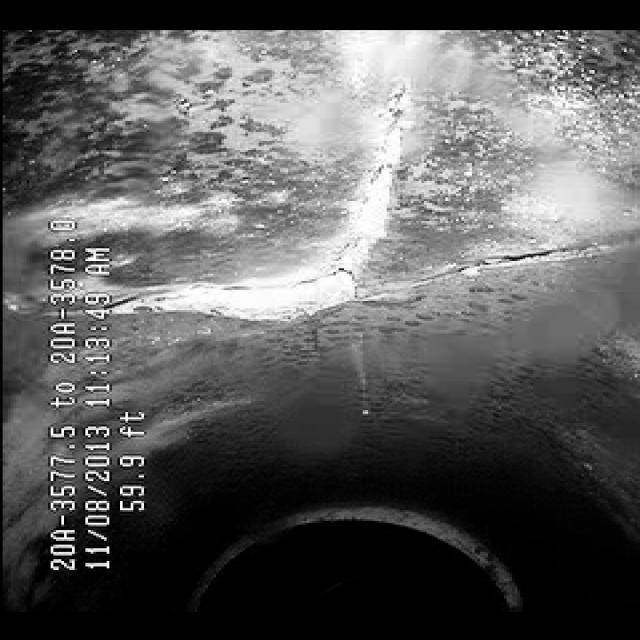Fracture: (143, 62, 570, 336)
